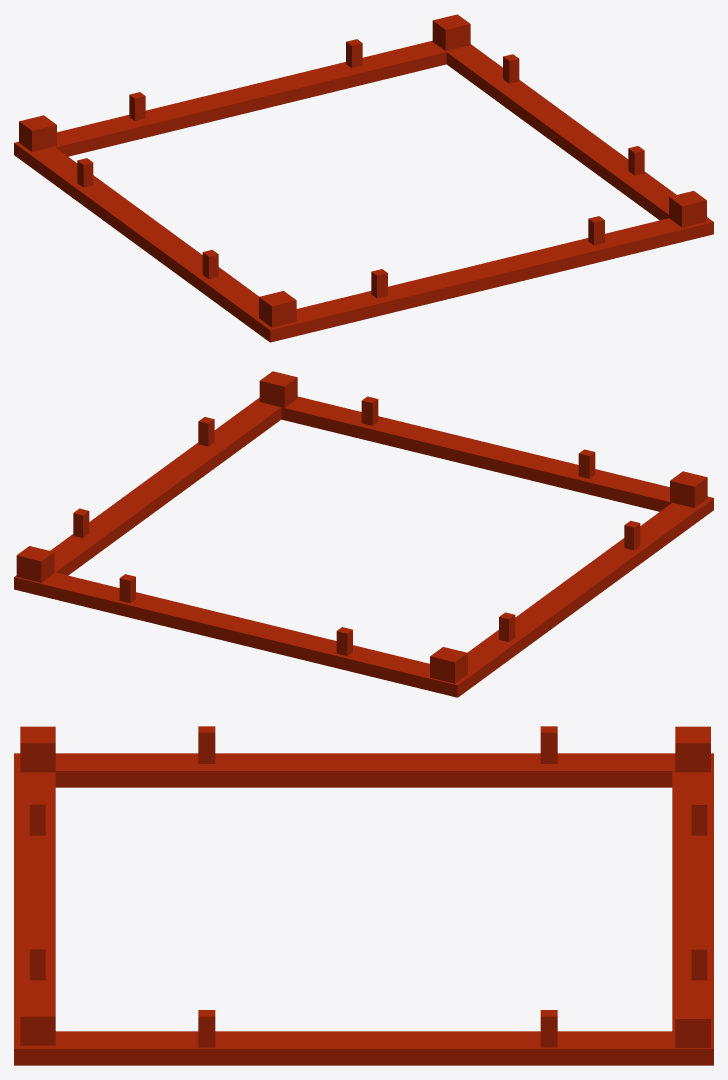
File: pavlop.fbx
3 views of the same model, one above another, from view 1: azimuth 30°, elevation 25°; view 2: azimuth 150°, elevation 25°; view 3: azimuth 270°, elevation 25° (orthographic). The views are drawn at different scales.
Parts seen in each view (by area): view 1: Cube.001; view 2: Cube.001; view 3: Cube.001.
Boxes of the visible parts, bbox=[...] form: Cube.001: bbox=[14, 14, 713, 342]; Cube.001: bbox=[14, 371, 713, 697]; Cube.001: bbox=[14, 726, 713, 1065].
Bounding box in the file's own units: 705 × 53.18 × 705.
